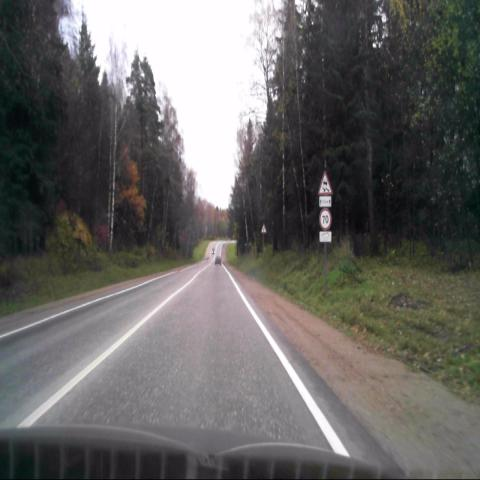1_15: (318, 171, 332, 195)
